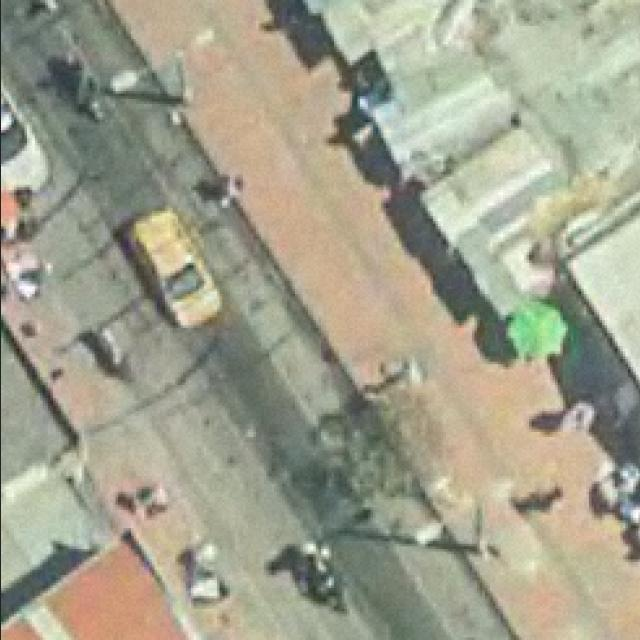vendedor_ambulante: (505, 303, 571, 359)
